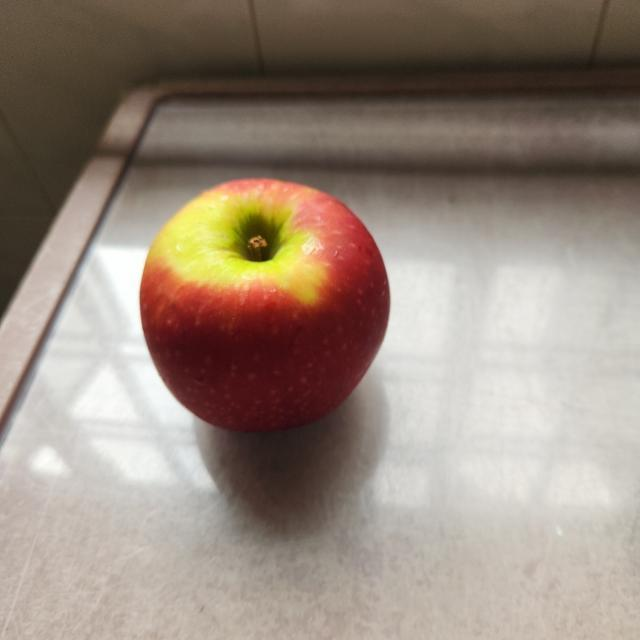apple: (132, 162, 394, 448)
